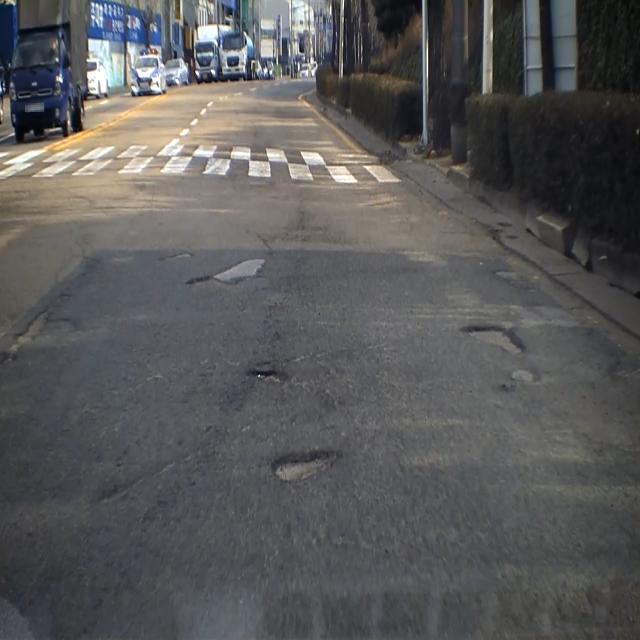Pothole: (6, 289, 82, 353), (183, 255, 269, 300), (271, 441, 344, 489), (456, 321, 530, 362), (247, 362, 296, 394), (506, 364, 542, 389)
